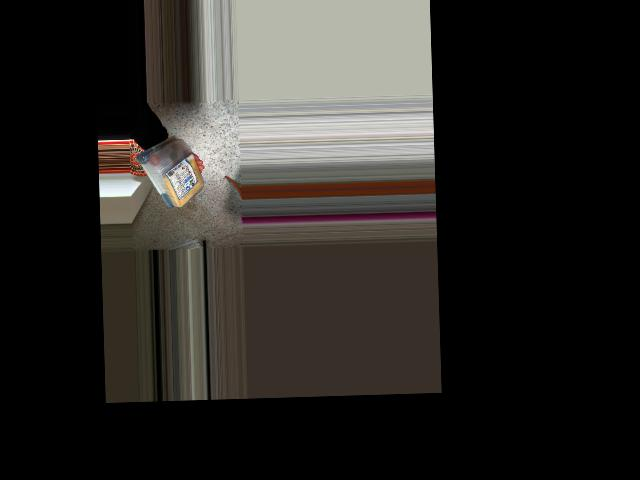cheese: (131, 131, 210, 213)
